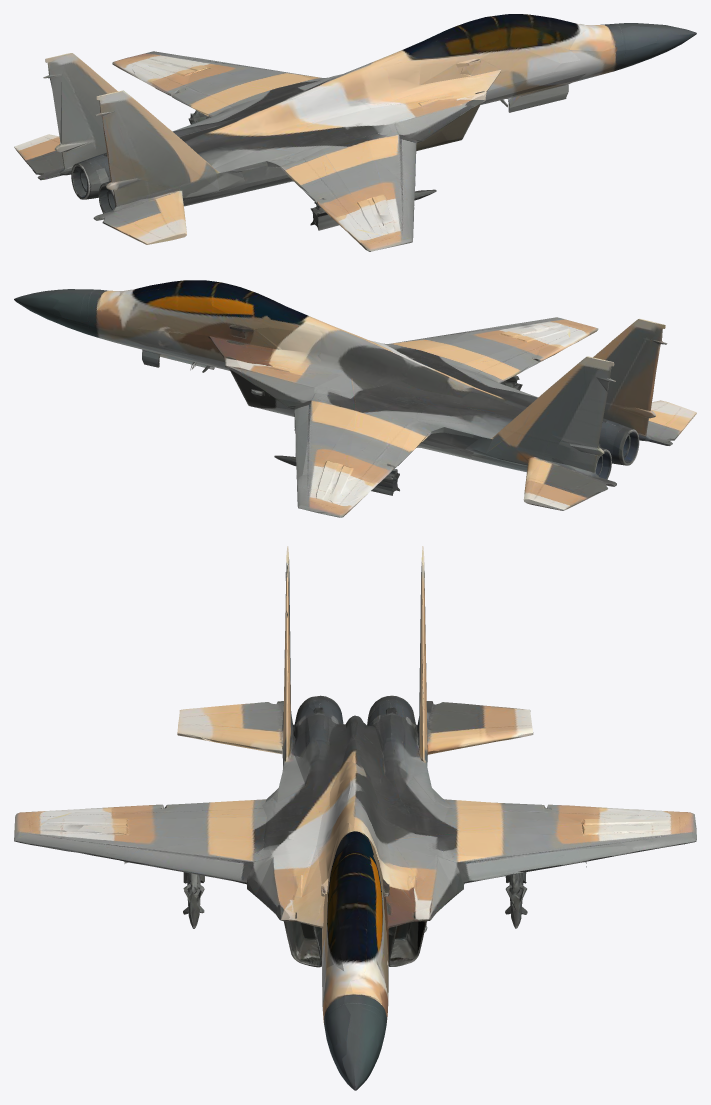
File: strike_jet.glb
3 views of the same model, one above another, from view 1: azimuth 30°, elevation 25°; view 2: azimuth 150°, elevation 25°; view 3: azimuth 270°, elevation 25° (orthographic). The views are drawn at different scales.
Parts seen in each view (by area): view 1: hull_hull; view 2: hull_hull; view 3: hull_hull.
Part boxes in pixels (x1=…): hull_hull: x1=14, y1=14, x2=696, y2=251; hull_hull: x1=14, y1=280, x2=696, y2=517; hull_hull: x1=14, y1=546, x2=696, y2=1090.
Size of the model in its own units: 10.5 by 2.4 by 7.5.
1 material, 1 textured.
